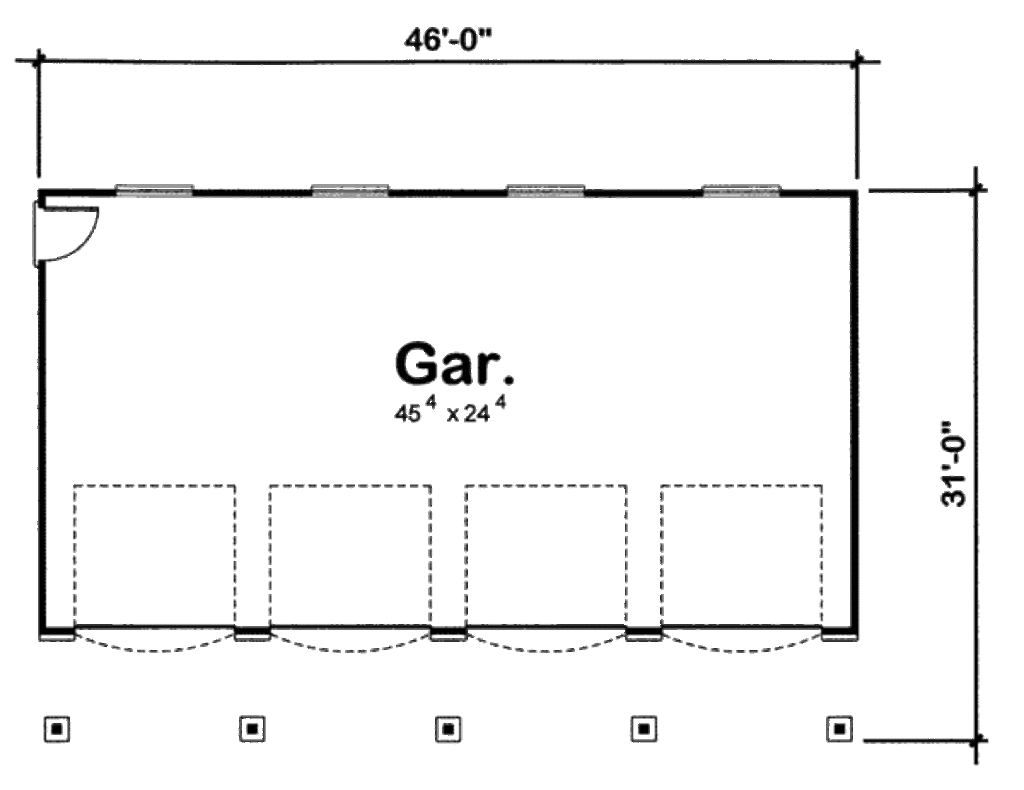door: (17, 202, 111, 281)
window: (308, 174, 394, 205), (502, 178, 587, 204), (111, 178, 196, 199), (706, 180, 780, 200)
